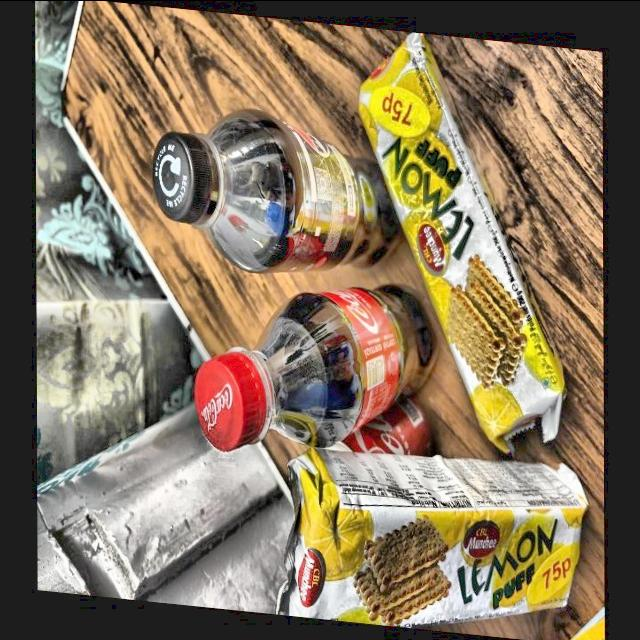coke-bottle: (202, 293, 424, 443)
coke-can: (338, 403, 440, 461)
lemon puff: (362, 36, 566, 436), (283, 442, 579, 628)
pepsi-bottle: (152, 119, 426, 271)
